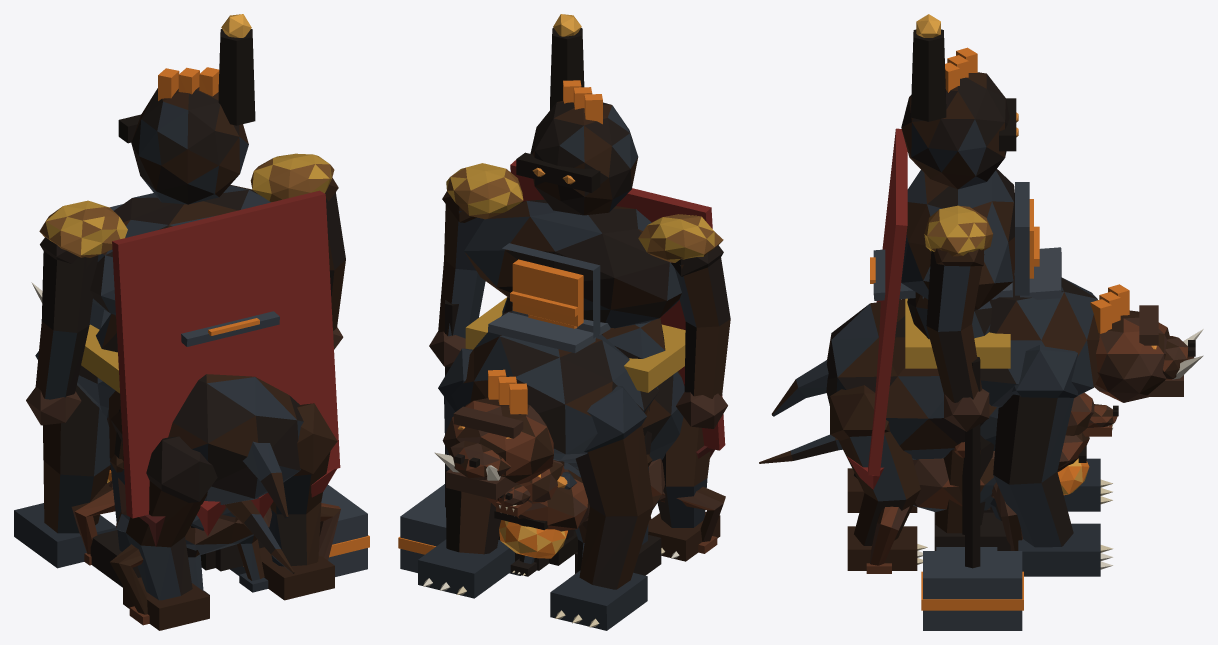
Rendered from foes-forge.glb.
The picture shows the model from 3 angles, left to right: view 1: azimuth 30°, elevation 25°; view 2: azimuth 150°, elevation 25°; view 3: azimuth 270°, elevation 25°; orthographic projection. The views are drawn at different scales.
Visible parts, largest first — view 1: fo_forge_boss_cloak, fo_forge_brute_body, fo_forge_boss_head, fo_forge_boss_body, fo_forge_brute_legBL, fo_forge_brute_legFL, fo_forge_boss_armL, fo_forge_brute_legBR, fo_forge_boss_armR, fo_forge_boss_legL, fo_forge_spitter_body, fo_forge_boss_headGlow (+9 smaller); view 2: fo_forge_boss_body, fo_forge_brute_body, fo_forge_brute_legFL, fo_forge_boss_head, fo_forge_brute_legFR, fo_forge_boss_armR, fo_forge_boss_armL, fo_forge_brute_head, fo_forge_brute_legBL, fo_forge_boss_bodyGlow, fo_forge_boss_cloak, fo_forge_spitter_head (+9 smaller); view 3: fo_forge_brute_body, fo_forge_boss_armR, fo_forge_boss_body, fo_forge_brute_legFR, fo_forge_boss_head, fo_forge_brute_legBR, fo_forge_brute_head, fo_forge_boss_cloak, fo_forge_boss_legR, fo_forge_spitter_body, fo_forge_spitter_legBR, fo_forge_boss_headGlow (+11 smaller).
Boxes of the visible parts, <box> form: fo_forge_boss_cloak: <box>112,190,340,546</box>; fo_forge_brute_body: <box>77,302,303,504</box>; fo_forge_boss_head: <box>118,29,255,204</box>; fo_forge_boss_body: <box>39,153,334,393</box>; fo_forge_brute_legBL: <box>123,436,217,630</box>; fo_forge_brute_legFL: <box>14,351,116,568</box>; fo_forge_boss_armL: <box>26,237,98,425</box>; fo_forge_brute_legBR: <box>259,403,337,600</box>; fo_forge_boss_armR: <box>321,177,367,576</box>; fo_forge_boss_legL: <box>90,391,140,587</box>; fo_forge_spitter_body: <box>116,478,271,554</box>; fo_forge_boss_headGlow: <box>158,14,251,100</box>; fo_forge_boss_body: <box>446,163,723,392</box>; fo_forge_brute_body: <box>451,306,684,469</box>; fo_forge_brute_legFL: <box>550,386,653,630</box>; fo_forge_boss_head: <box>516,28,638,215</box>; fo_forge_brute_legFR: <box>418,348,514,598</box>; fo_forge_boss_armR: <box>400,191,485,572</box>; fo_forge_boss_armL: <box>671,245,730,428</box>; fo_forge_brute_head: <box>434,398,553,484</box>; fo_forge_brute_legBL: <box>648,417,720,561</box>; fo_forge_boss_bodyGlow: <box>510,259,583,326</box>; fo_forge_boss_cloak: <box>510,160,725,458</box>; fo_forge_spitter_head: <box>485,469,589,531</box>; fo_forge_brute_body: <box>826,247,1099,459</box>; fo_forge_boss_armR: <box>923,248,1022,630</box>; fo_forge_boss_body: <box>901,169,1029,368</box>; fo_forge_brute_legFR: <box>993,345,1113,576</box>; fo_forge_boss_head: <box>901,29,1016,189</box>; fo_forge_brute_legBR: <box>830,385,927,570</box>; fo_forge_brute_head: <box>1094,305,1203,402</box>; fo_forge_boss_cloak: <box>847,128,907,489</box>; fo_forge_boss_legR: <box>934,435,1010,550</box>; fo_forge_spitter_body: <box>913,451,996,512</box>; fo_forge_spitter_legBR: <box>866,506,909,573</box>; fo_forge_boss_headGlow: <box>916,14,1018,137</box>.
Size of the model in its own units: 1.76 by 3.14 by 2.28.
